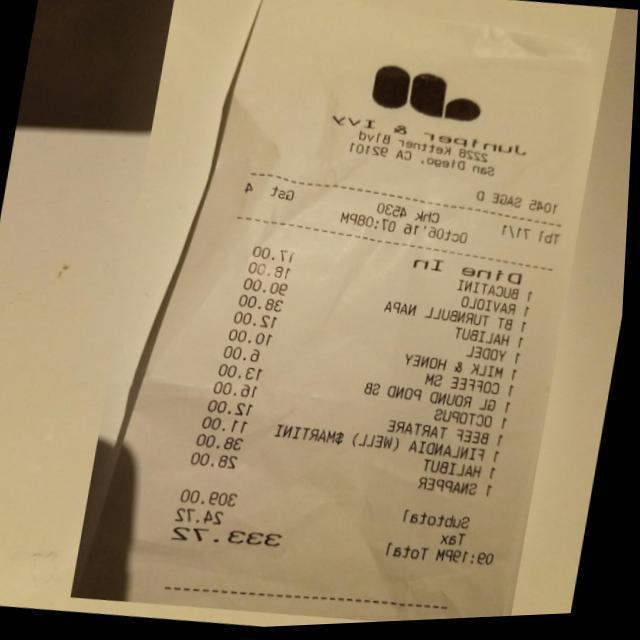Paper: (74, 0, 617, 637)
